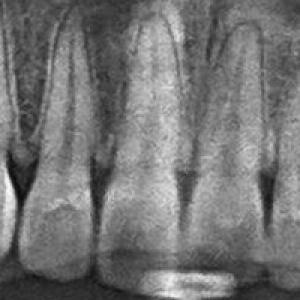tooth: (96, 13, 177, 290), (183, 20, 266, 290), (16, 4, 94, 285)
